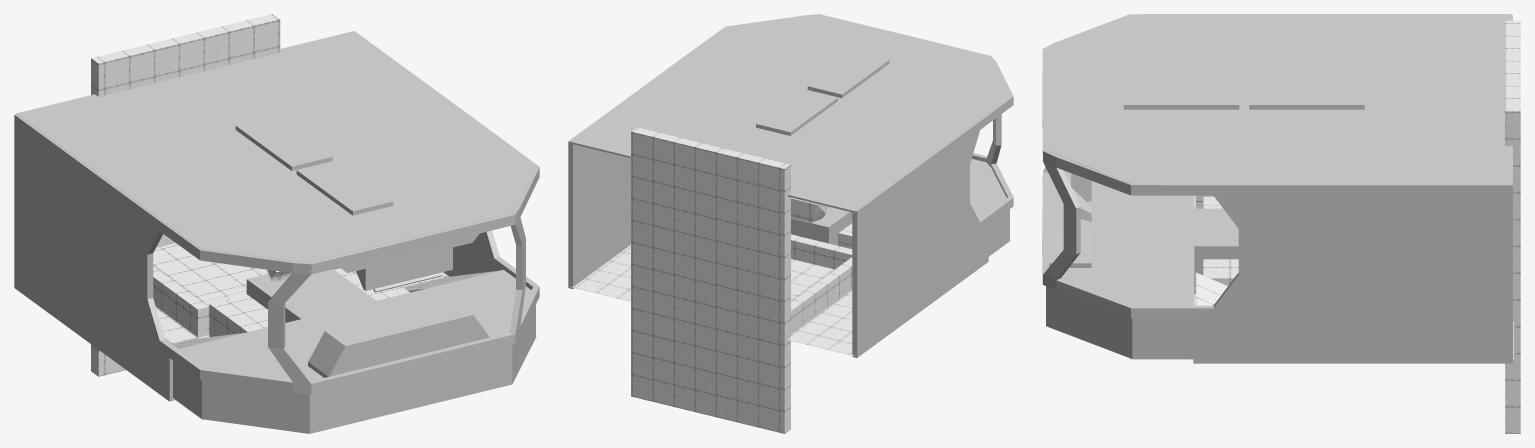
The model's file is SM_Cockpit.fbx.
The picture shows the model from 3 angles, left to right: view 1: azimuth 30°, elevation 25°; view 2: azimuth 150°, elevation 25°; view 3: azimuth 270°, elevation 25°; orthographic projection. The views are drawn at different scales.
Parts seen in each view (by area): view 1: Cube.002, Plane, Cube, Sprite.012, Cube.001, Sprite.006, Cube.005, Cube.003, Cube.004, Sprite.001, Sprite.003, Sprite.002 (+1 smaller); view 2: Sprite.012, Cube.002, Plane, Sprite.006, Sprite.003, Cube, Cube.003, Cube.004, Sprite.017; view 3: Cube.002, Plane, Cube, Sprite.012, Cube.003, Cube.004, Cube.001, Sprite.002, Sprite.005.
Part boxes in pixels (left/top/right/bottom): Cube.002: left=16, top=31, right=537, bottom=272; Plane: left=14, top=31, right=539, bottom=401; Cube: left=173, top=269, right=535, bottom=433; Sprite.012: left=91, top=14, right=280, bottom=376; Cube.001: left=308, top=300, right=489, bottom=377; Sprite.006: left=153, top=243, right=343, bottom=337; Cube.005: left=356, top=243, right=452, bottom=292; Cube.003: left=296, top=160, right=393, bottom=215; Cube.004: left=235, top=115, right=332, bottom=170; Sprite.001: left=209, top=294, right=285, bottom=336; Sprite.003: left=156, top=272, right=537, bottom=420; Sprite.002: left=338, top=271, right=410, bottom=300; Sprite.012: left=631, top=127, right=790, bottom=433; Cube.002: left=570, top=15, right=1011, bottom=212; Plane: left=568, top=14, right=1013, bottom=357; Sprite.006: left=791, top=234, right=852, bottom=334; Sprite.003: left=570, top=240, right=1011, bottom=355; Cube: left=791, top=159, right=1009, bottom=256; Cube.003: left=807, top=51, right=889, bottom=98; Cube.004: left=756, top=89, right=837, bottom=135; Sprite.017: left=791, top=197, right=828, bottom=222; Cube.002: left=1047, top=15, right=1512, bottom=183; Plane: left=1042, top=14, right=1512, bottom=363; Cube: left=1046, top=181, right=1238, bottom=359; Sprite.012: left=1505, top=20, right=1520, bottom=433; Cube.003: left=1123, top=84, right=1239, bottom=109; Cube.004: left=1249, top=84, right=1364, bottom=109; Cube.001: left=1049, top=170, right=1091, bottom=267; Sprite.002: left=1203, top=259, right=1238, bottom=285; Sprite.005: left=1195, top=272, right=1227, bottom=305.
Size of what is drawn, in the model's own units: 13.71 by 12.02 by 16.18.
Materials: 1 (1 with a texture image).
